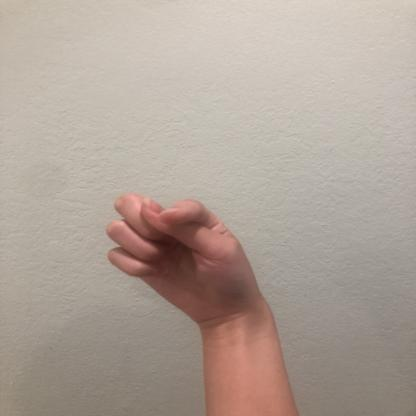finger_point: (154, 196, 206, 225)
